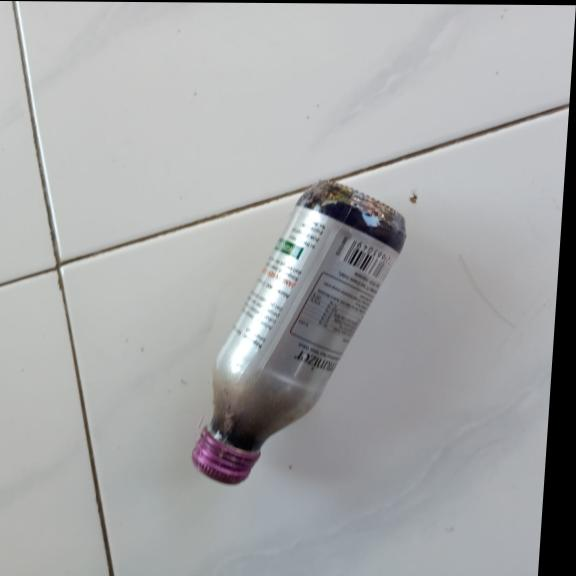Plastik: (189, 177, 409, 488)
